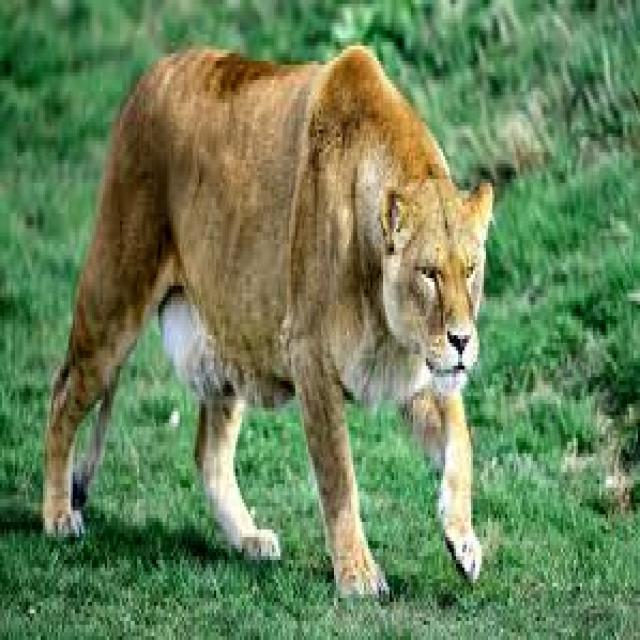Lion: (39, 44, 502, 599)
